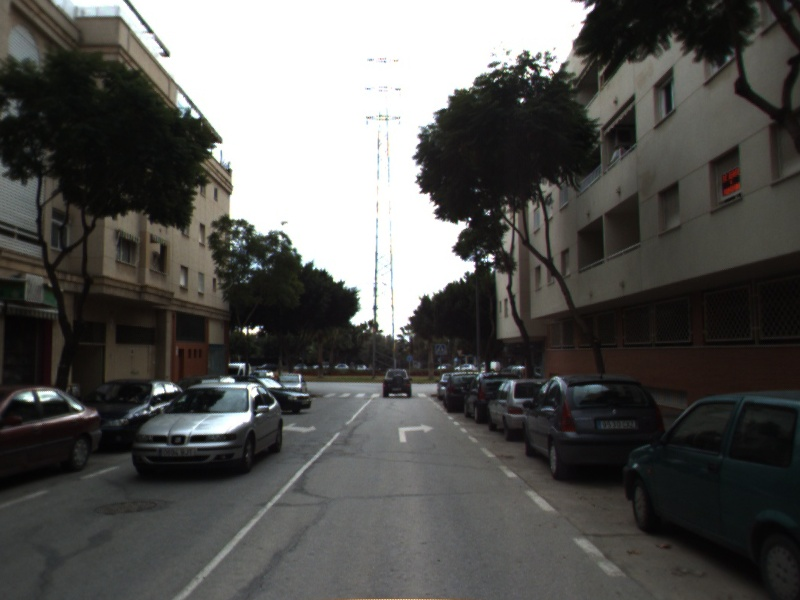RIGHT: (396, 422, 437, 444)
